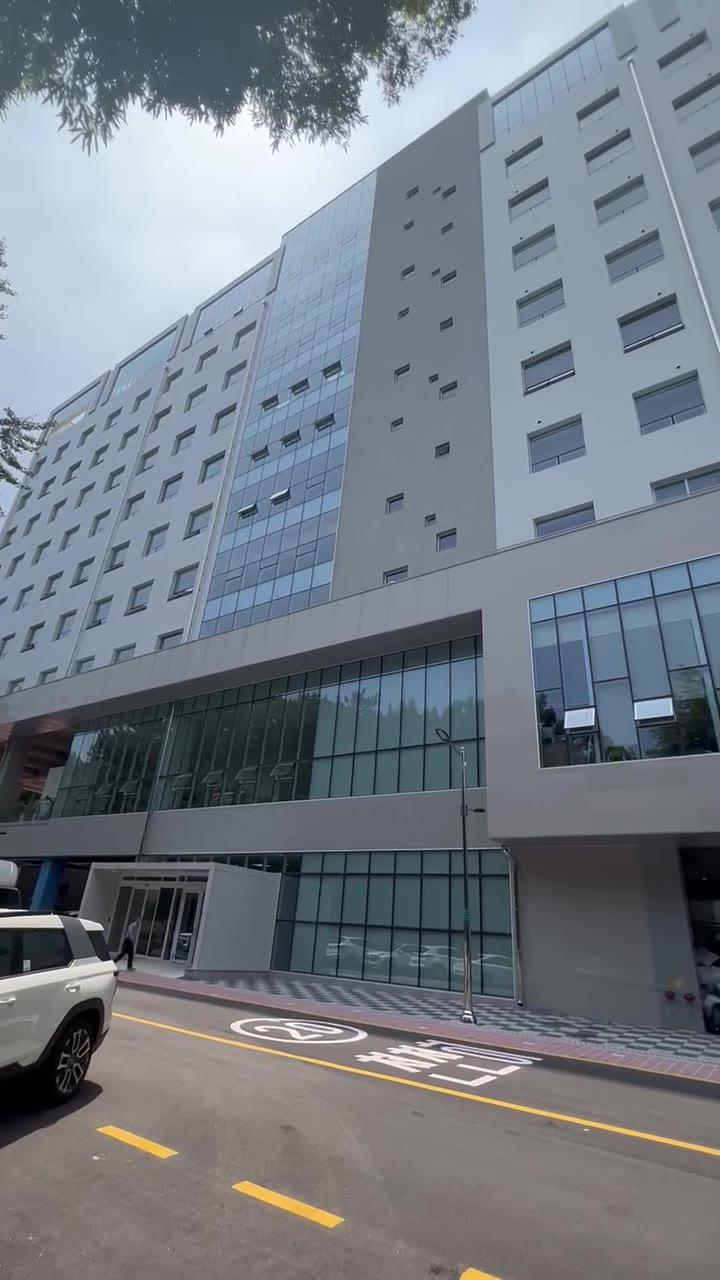building: (26, 216, 720, 924)
